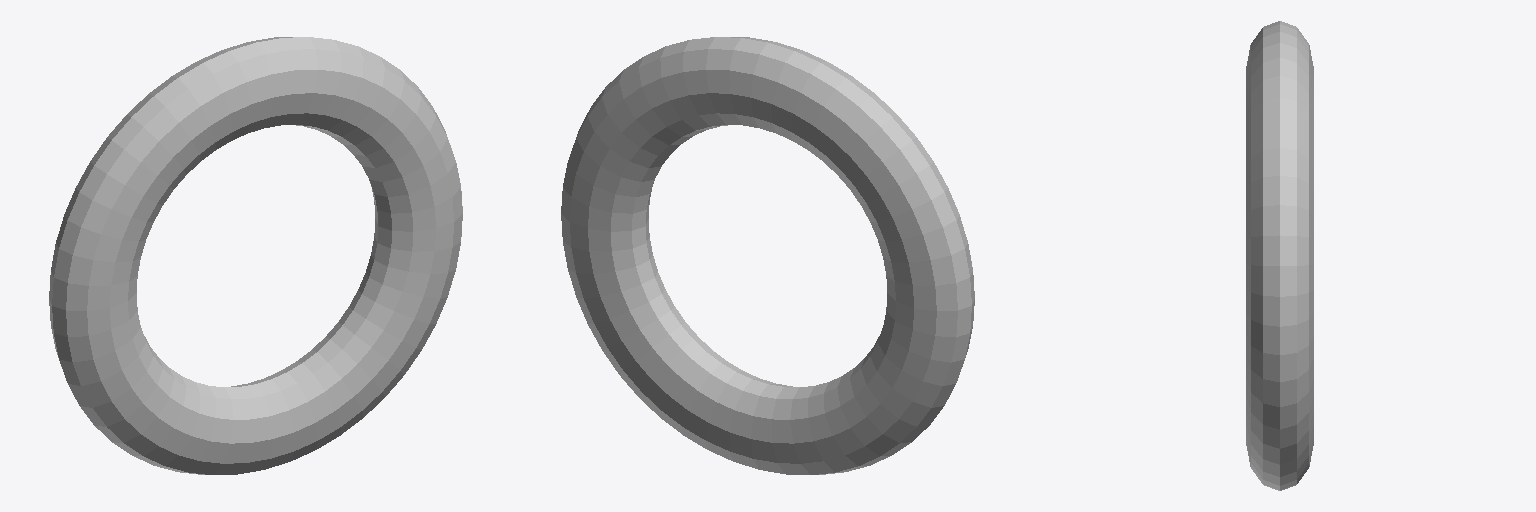
Rendered from toy_plane_left_front_wheel.obj.
The picture shows the model from 3 angles: view 1: azimuth 30°, elevation 25°; view 2: azimuth 150°, elevation 25°; view 3: azimuth 270°, elevation 25°; orthographic projection.
Parts seen in each view (by area): view 1: front_wheel_left_Torus.001; view 2: front_wheel_left_Torus.001; view 3: front_wheel_left_Torus.001.
Boxes of the visible parts, <box> form: front_wheel_left_Torus.001: <box>49,37,462,474</box>; front_wheel_left_Torus.001: <box>561,37,974,474</box>; front_wheel_left_Torus.001: <box>1246,21,1313,490</box>.
Bounding box in the file's own units: 0.625 × 0.625 × 0.0898.